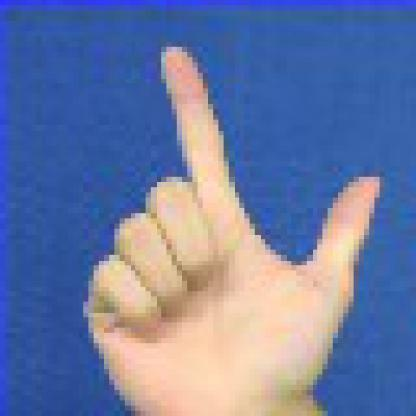seven: (68, 26, 395, 411)
